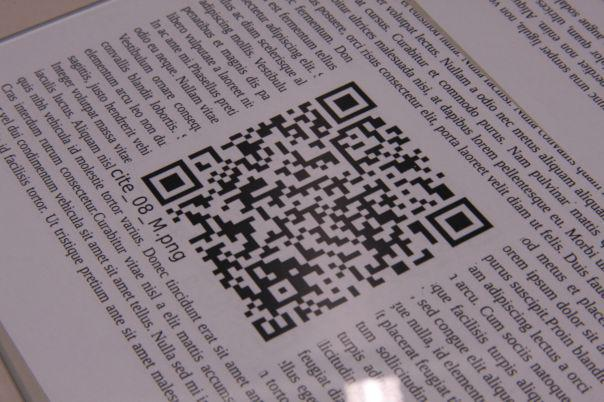Finder pattern: (423, 196, 494, 250), (141, 160, 204, 208), (315, 84, 379, 124)
